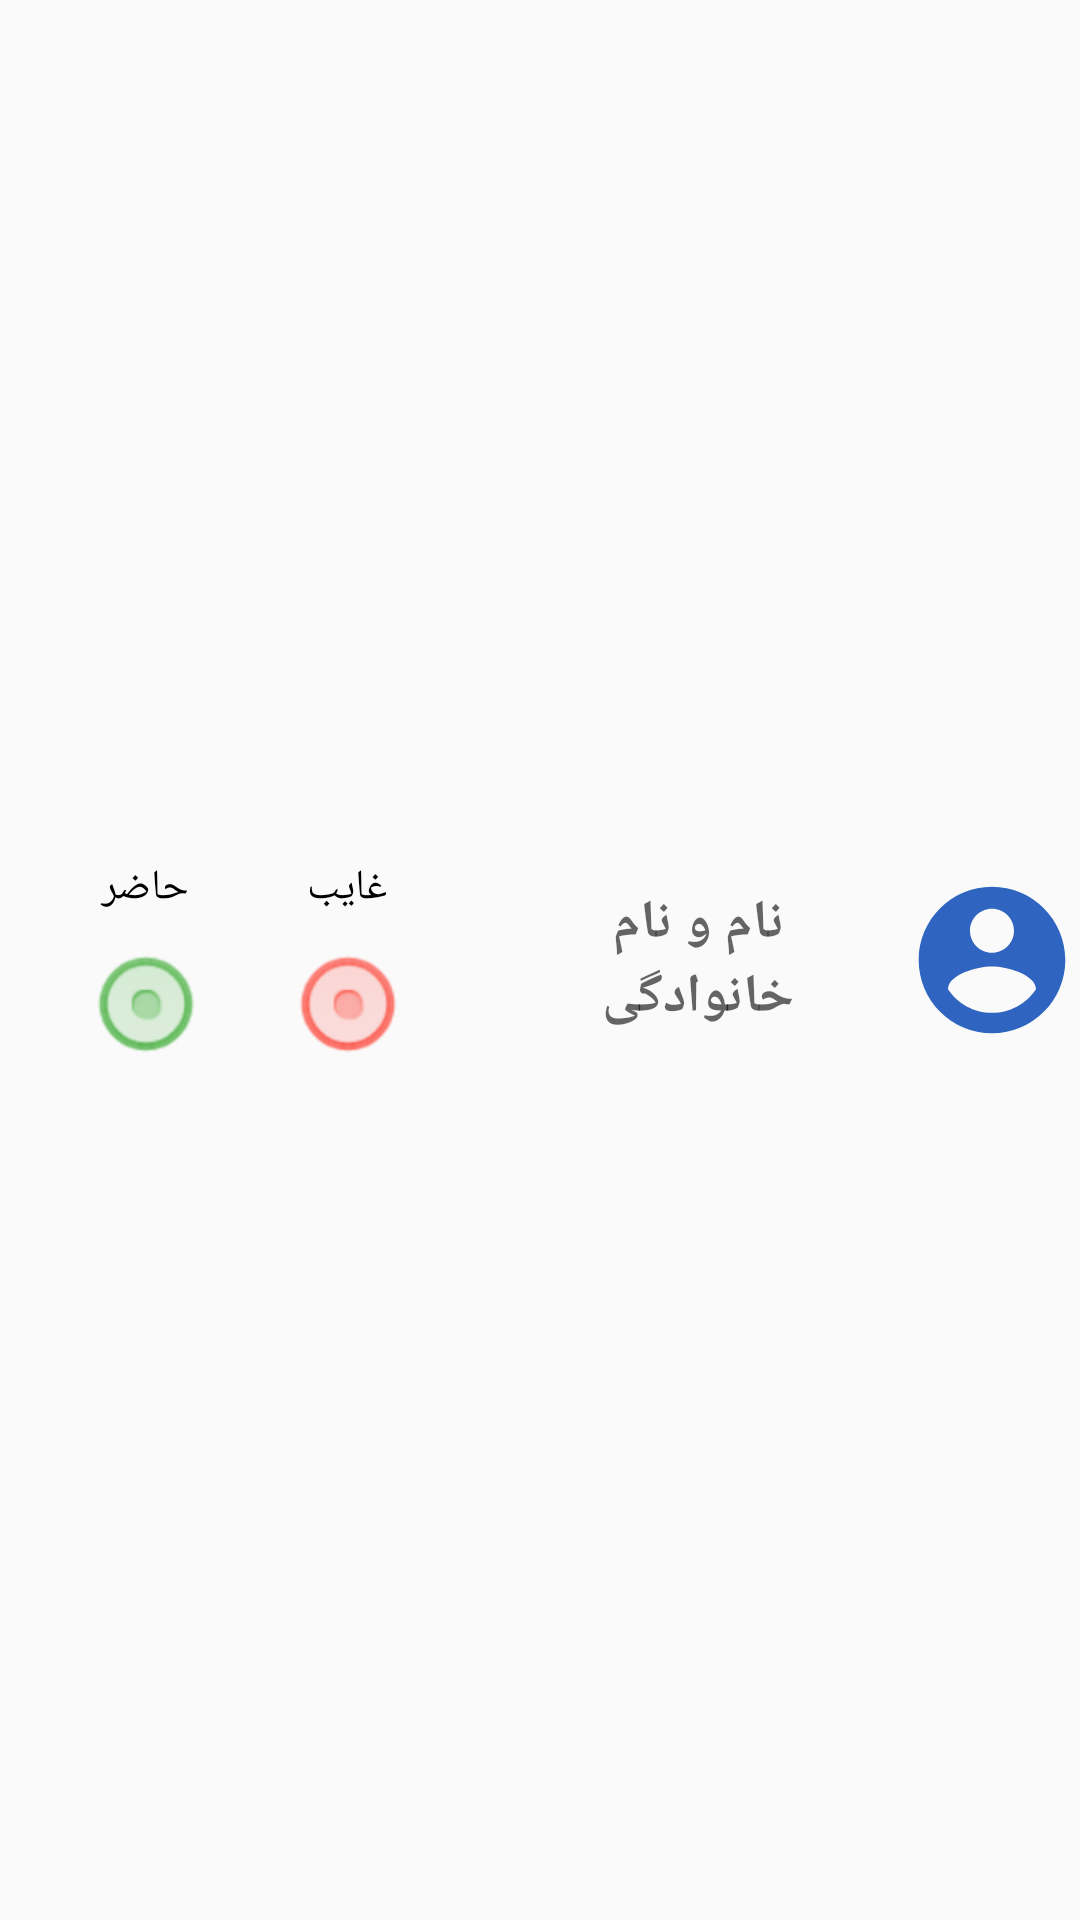

Named icons in this screenshot (1080x1920) and their bounding boxes, (x1, y1, x2, y2):
profile: (918, 886, 1066, 1034)
